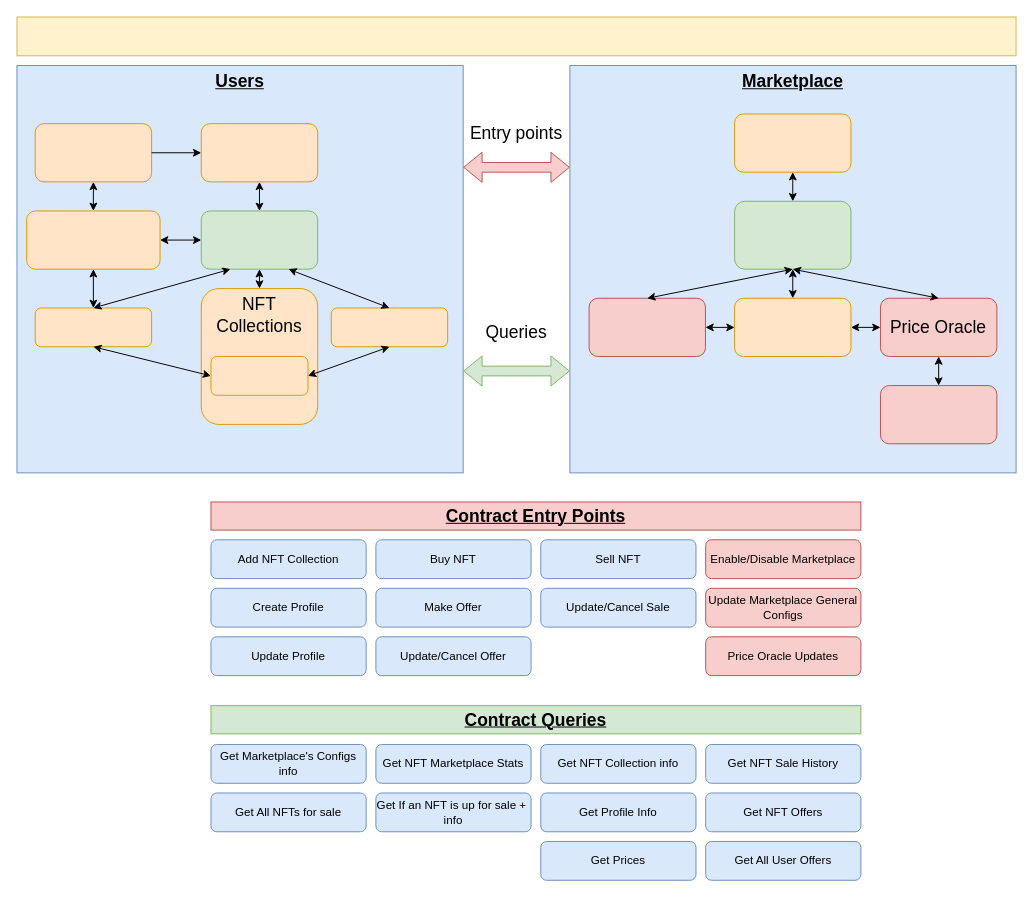
Some shapes in this 1033 by 897 pixel diagram are drawn without their labels. Here are the shapes that lost their labels. From the top down, the centre of each, then its label:
At point 516,36: "NFT Marketplace smart-contract general design".
At point 93,152: "VIP System".
At point 259,152: "User Profile".
At point 792,142: "Marketplace Stats".
At point 93,239: "Reward System".
At point 259,239: "Wallet (User)".
At point 792,234: "Marketplace (Contract)".
At point 93,327: "Sales".
At point 389,327: "Offers".
At point 646,326: "Admin".
At point 792,326: "Marketplace Configs".
At point 259,375: "NFTs".
At point 938,414: "Price Feed".
